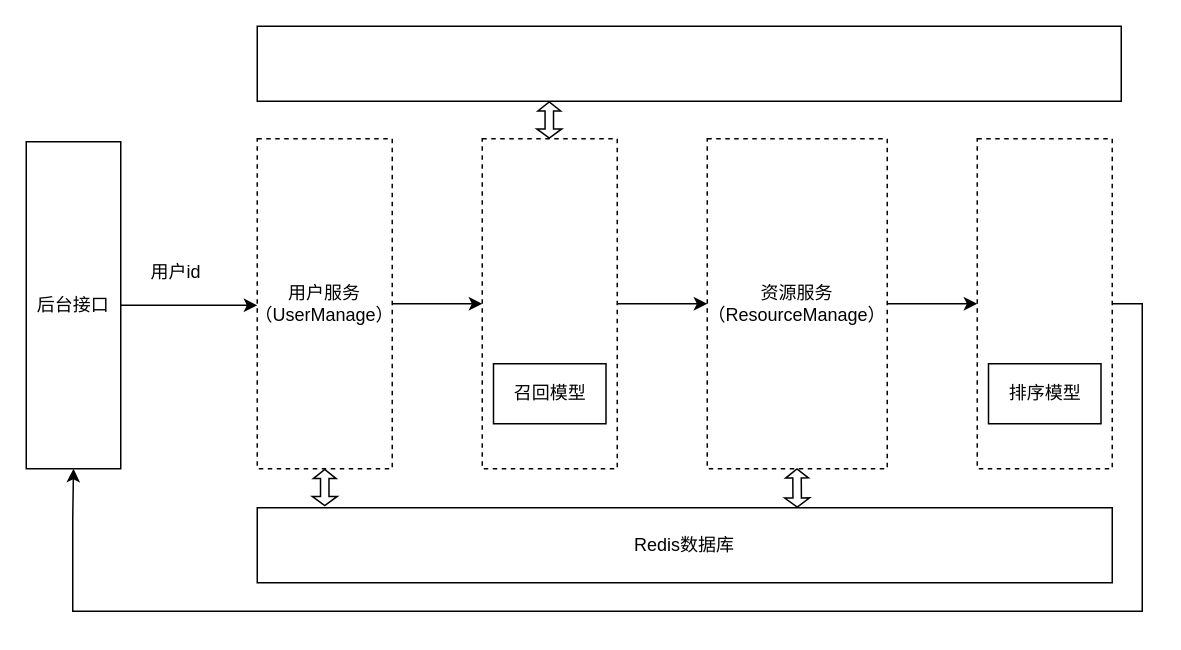
Image size: 1181x650. Some labels were removed from this diagram. The box of each missing label's shape, as (x1, y1, x2, y2) in pixels:
召回服务（Recall）: (481, 137, 617, 469)
向量数据库: (256, 25, 1121, 101)
排序服务（Rank）: (976, 137, 1112, 469)
